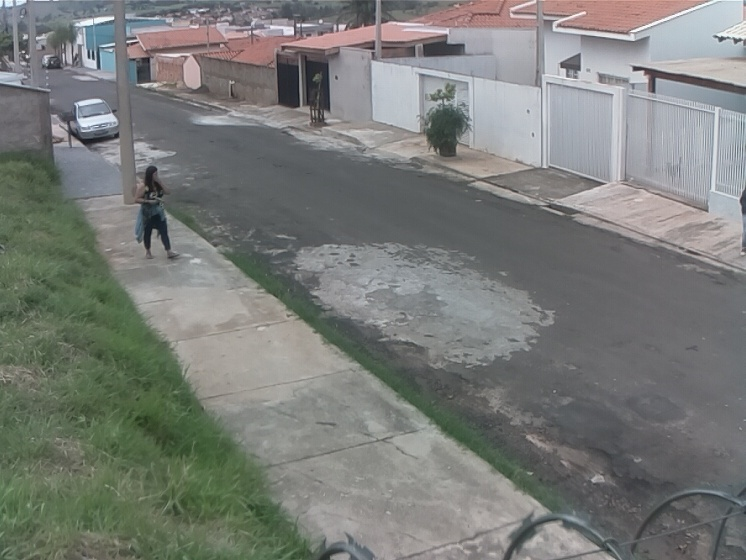person: (133, 164, 184, 264)
